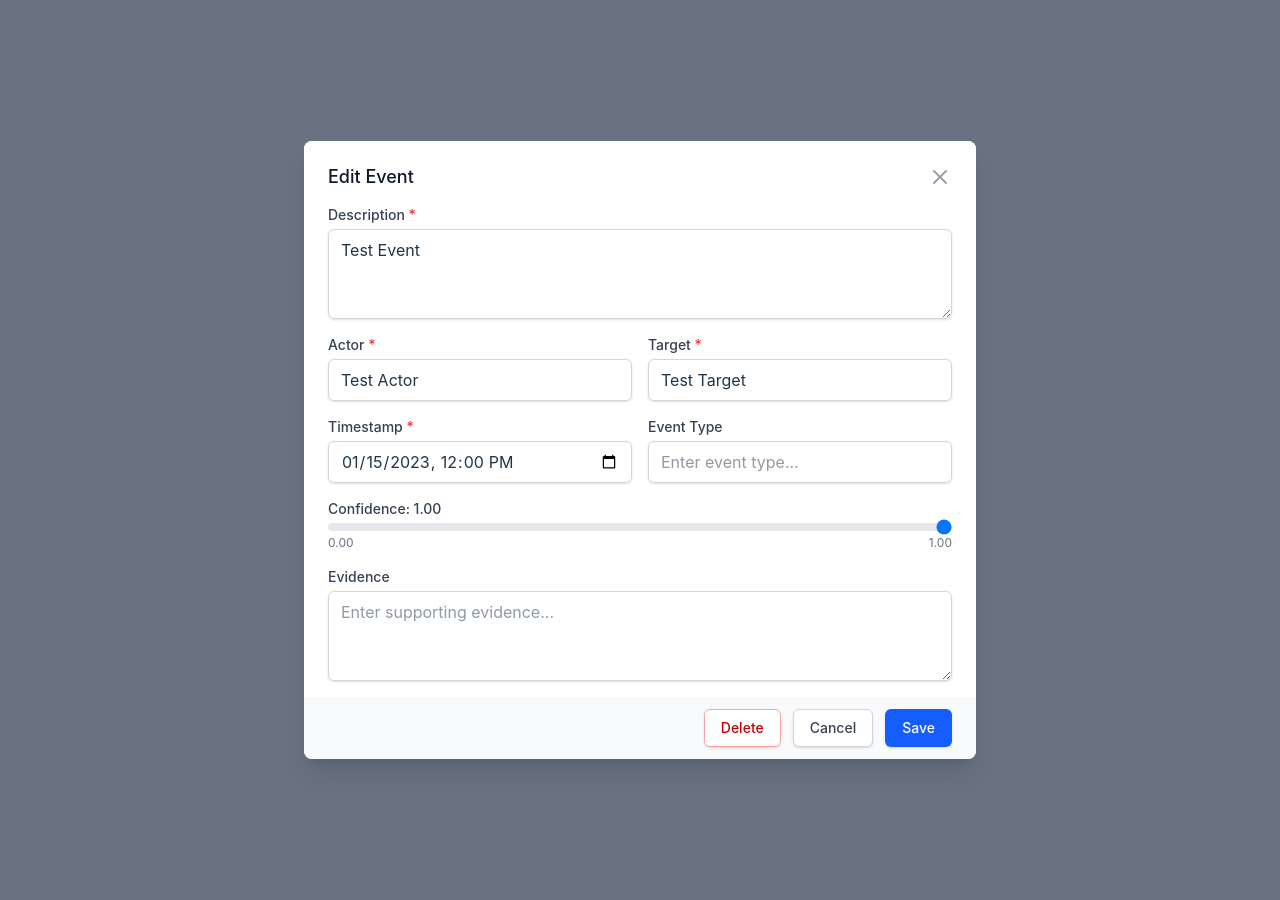
Test case: EventDetailModal › Delete Actions › cancels deletion when cancel is clicked in confirmation
Note: Click delete button
What coordinates should you click on to do the following:
click the button "Delete"
I would click on:
 (742, 728)
Its box is [704,709,781,747].
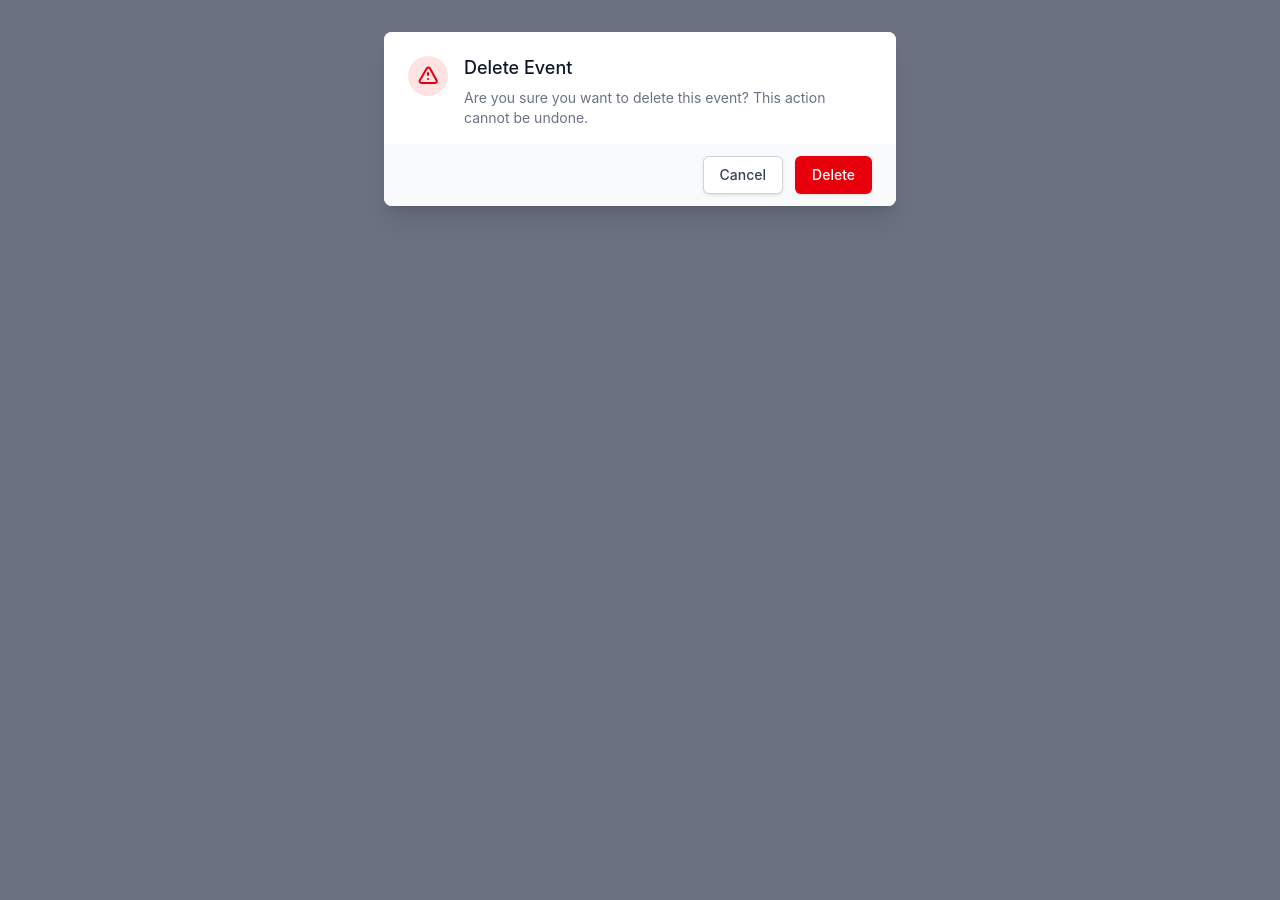
What coordinates should you click on to do the following:
click the button "Cancel"
I would click on:
 (743, 175)
Its box is [703,156,783,194].
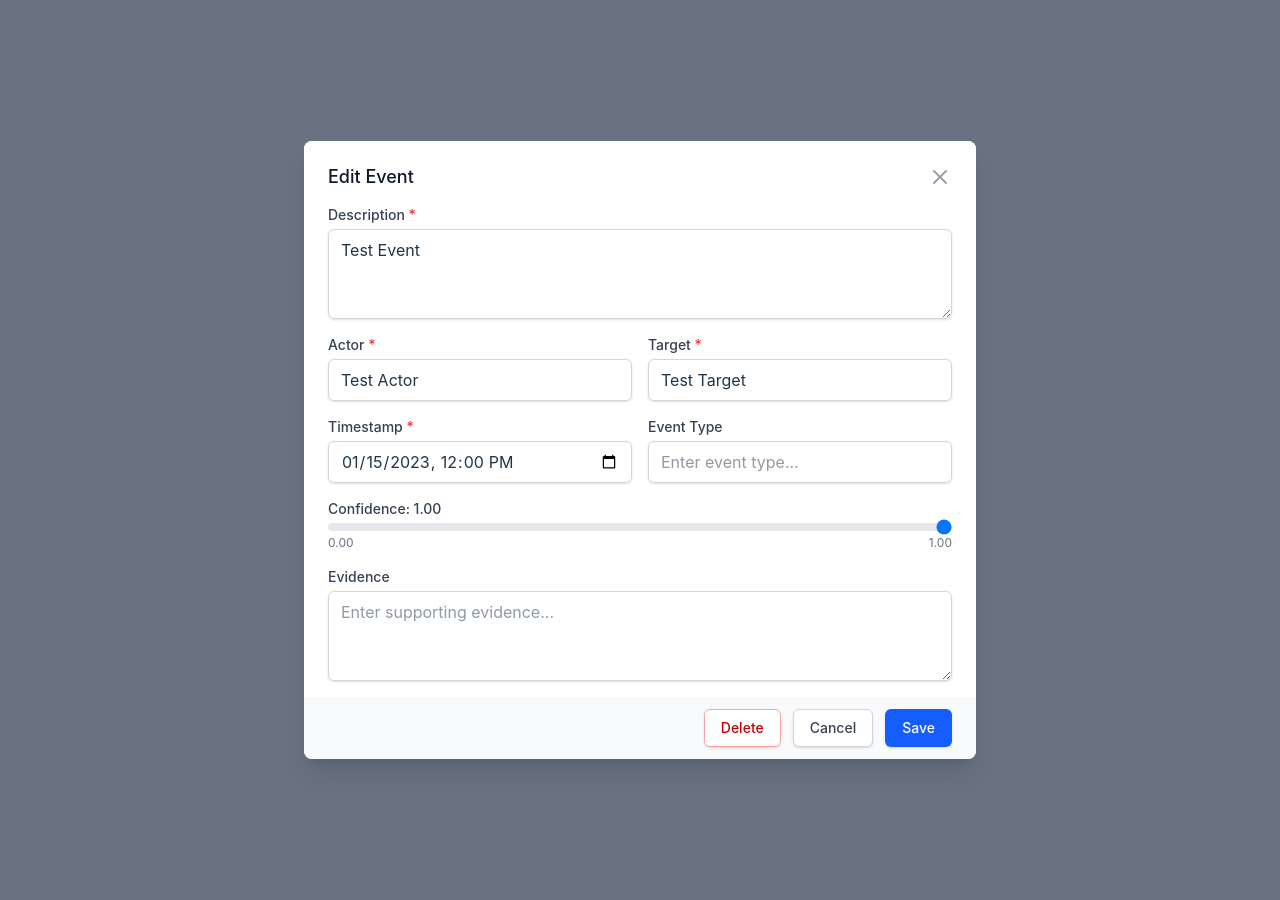
Result: the text "Are you sure you want to delete" is gone
